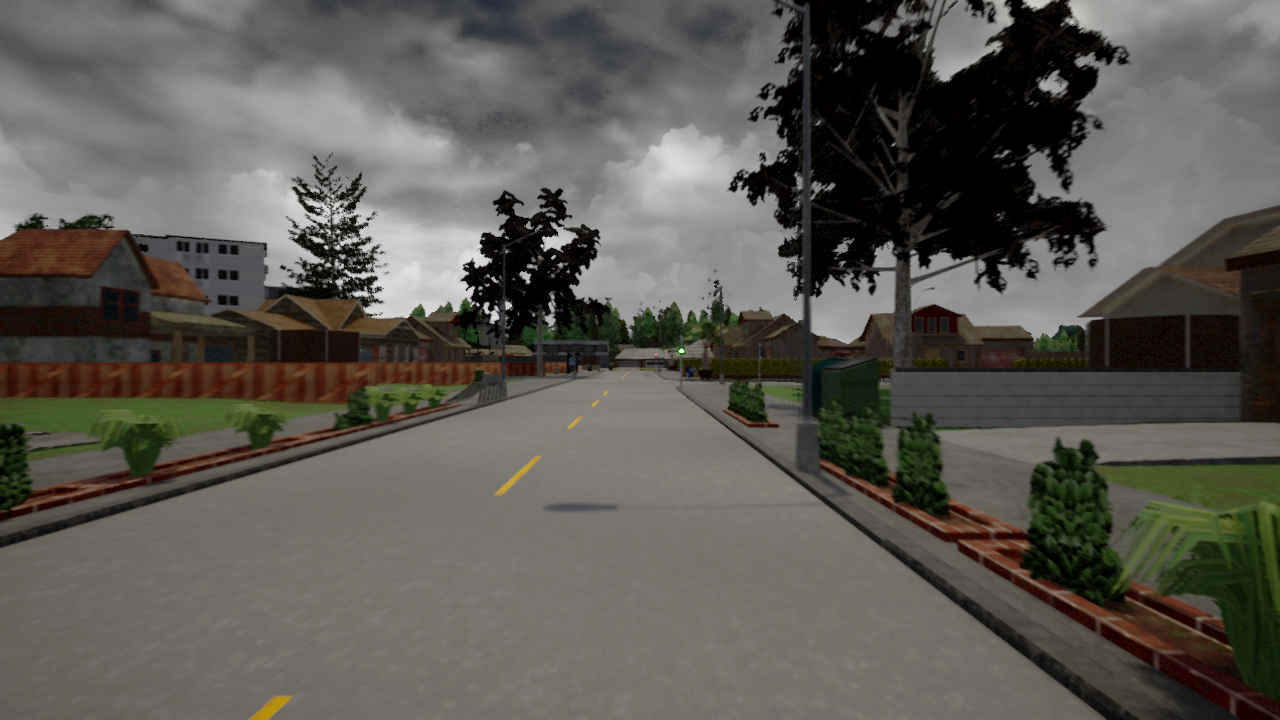green: (678, 339, 685, 354)
